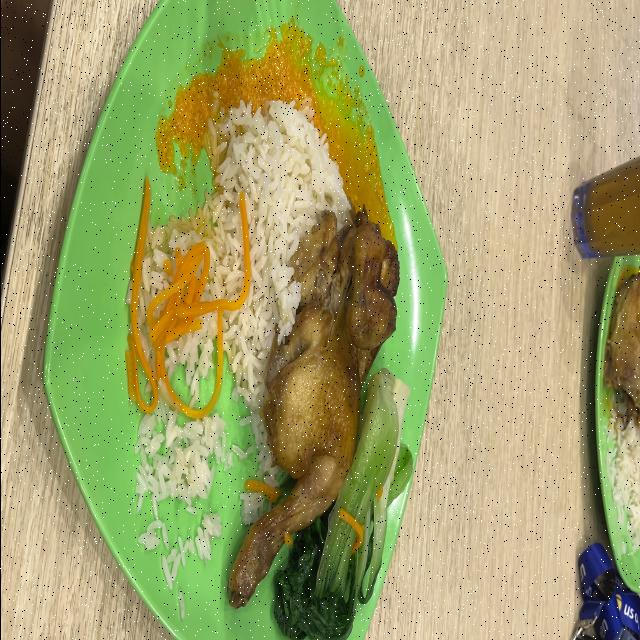Chicken: (228, 212, 398, 608)
Green veg: (273, 368, 412, 640)
Non green veg: (126, 178, 250, 418)
Rice: (139, 101, 350, 487), (134, 399, 251, 550), (165, 312, 217, 406), (162, 514, 220, 588), (173, 281, 248, 319), (241, 211, 247, 251)
